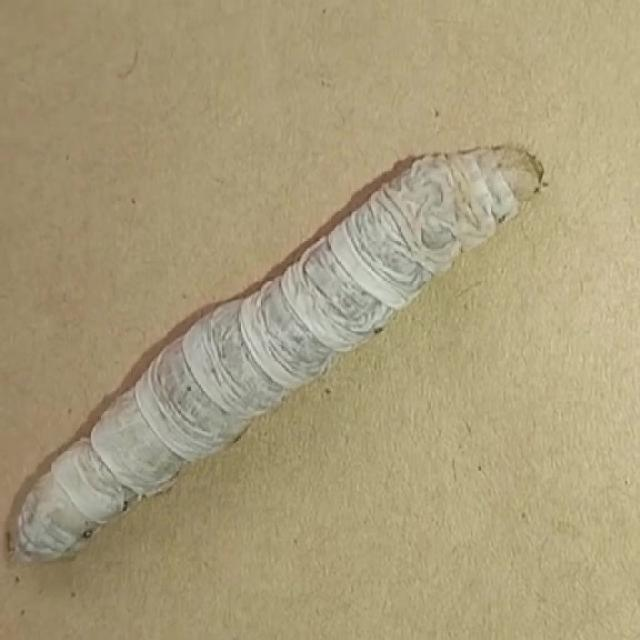Grasserie: (6, 132, 545, 585)
